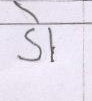e_matra: (13, 1, 42, 23)
